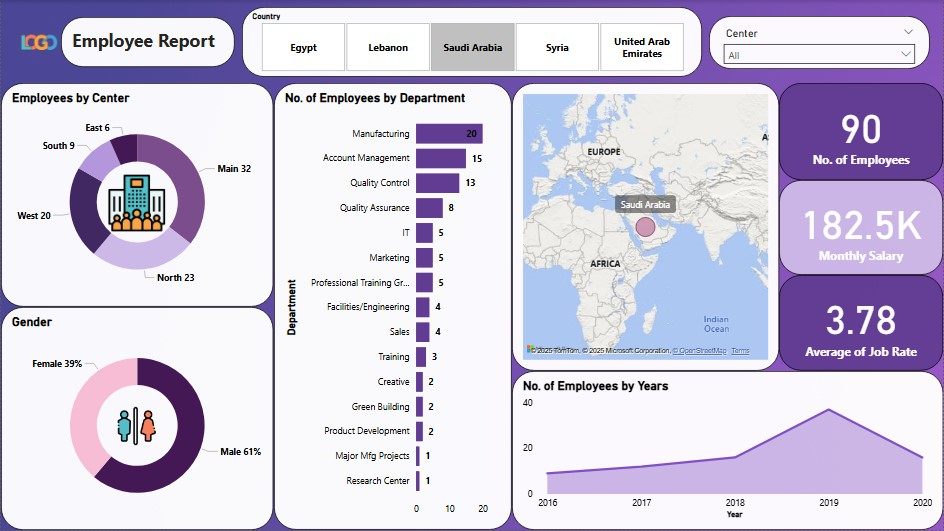

This screenshot's page, from the dashboard's own definition file:
{"tool":"powerbi","page":{"name":"Employees Report DashBoard","canvas":[1280,720],"ordinal":0},"visuals":[{"type":"clusteredBarChart","title":"No. of Employees by Department","fields":{"Category":["Employees.Department"],"Y":["CountNonNull(Employees.No)"]},"box":[370.2,112.9,323.4,607],"z":0},{"type":"donutChart","title":"Employees by Center","fields":{"Category":["Employees.Center"],"Y":["CountNonNull(Employees.No)"]},"box":[0,112.9,370.2,304.2],"z":1000},{"type":"donutChart","title":"Gender","fields":{"Category":["Employees.Gender"],"Y":["CountNonNull(Employees.Gender)"]},"box":[0,417,370.2,302.8],"z":2000},{"type":"map","fields":{"Category":["Employees.Country"]},"box":[694.2,112.8,362.7,391.2],"z":3000},{"type":"areaChart","title":"No. of Employees by Years","fields":{"Category":["Employees.Start Date.Variation.Date Hierarchy.Year","Employees.Start Date.Variation.Date Hierarchy.Quarter","Employees.Start Date.Variation.Date Hierarchy.Month","Employees.Start Date.Variation.Date Hierarchy.Day"],"Y":["CountNonNull(Employees.No)"]},"box":[694.2,504,585.5,216],"z":4000},{"type":"card","fields":{"Values":["CountNonNull(Employees.No)"]},"box":[1056.9,112.8,222.8,131.8],"z":5000},{"type":"card","fields":{"Values":["Sum(Employees.Monthly Salary)"]},"box":[1056.9,244.5,222.8,129.1],"z":6000},{"type":"card","fields":{"Values":["Avg(Employees.Job Rate)"]},"box":[1056.9,373.6,222.8,130.4],"z":7000},{"type":"slicer","fields":{"Values":["Employees.Country"]},"box":[327.6,9.6,624.9,95],"z":8000},{"type":"slicer","fields":{"Values":["Employees.Center"]},"box":[962.1,22,300,71.6],"z":9000},{"type":"textbox","box":[81.5,23.1,236.4,67.9],"z":10000},{"type":"image","box":[12.4,39.9,78.5,35.8],"z":11000},{"type":"image","box":[153.5,544.8,62.5,67.9],"z":12000},{"type":"image","box":[125,232.3,118.2,86.9],"z":13000}]}

Visuals, with their boxes in screenshot pixels (x1, y1, x2, y2), scaled from the page's 1280x720 canvas onto the 944x531 screenshot:
"No. of Employees by Department" clusteredBarChart: 273 83 512 530
"Employees by Center" donutChart: 0 83 273 308
"Gender" donutChart: 0 308 273 530
map - Employees.Country: 512 83 779 372
"No. of Employees by Years" areaChart: 512 372 943 530
card - CountNonNull(Employees.No): 779 83 943 180
card - Sum(Employees.Monthly Salary): 779 180 943 276
card - Avg(Employees.Job Rate): 779 276 943 372
slicer - Employees.Country: 242 7 702 77
slicer - Employees.Center: 710 16 931 69
textbox: 60 17 234 67
image: 9 29 67 56
image: 113 402 159 452
image: 92 171 179 235
